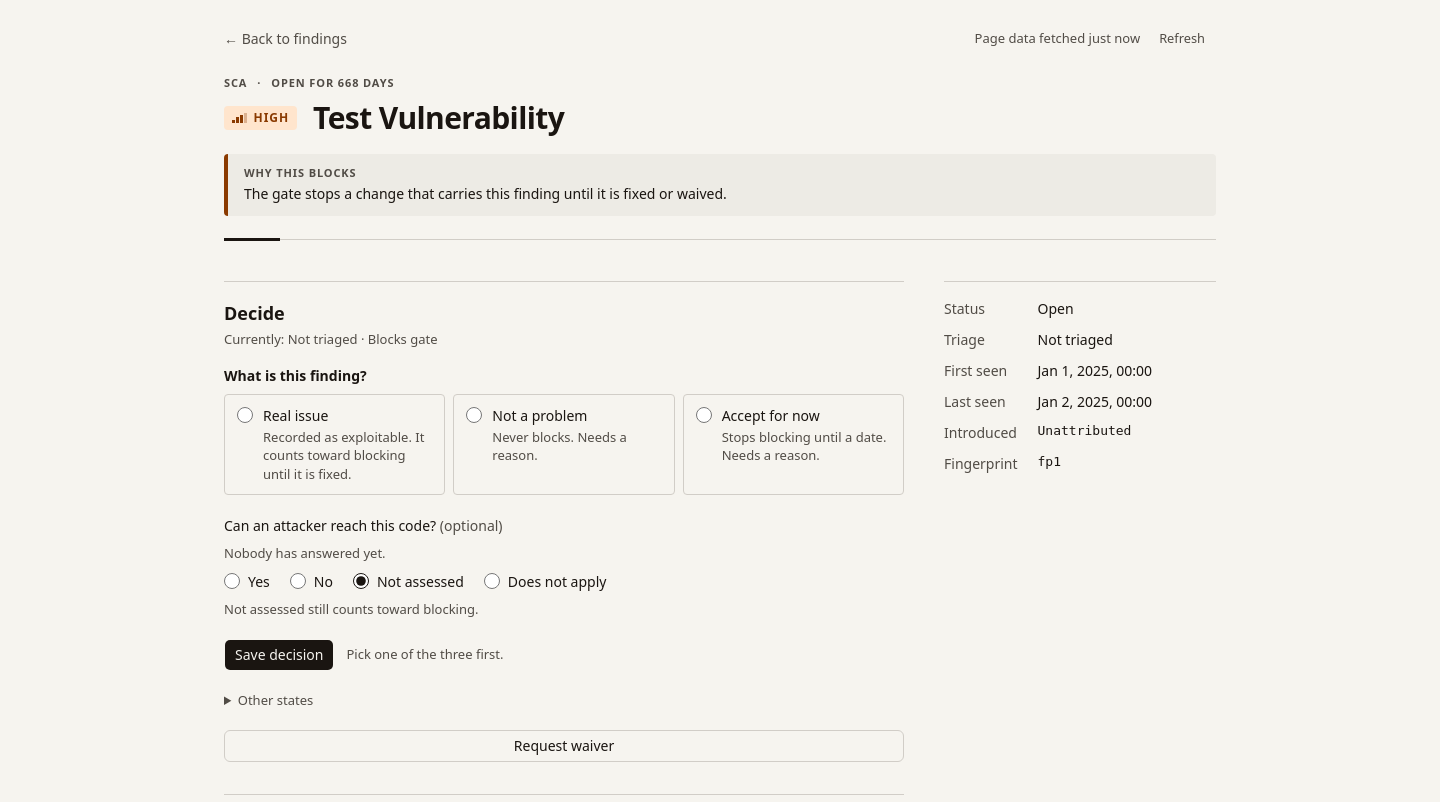
decide-first form when someone else triaged first › reloads, shows what changed and who did it, and re-applies on top of the new state
Expected: the heading "Test Vulnerability" is shown, 313,101 -> 564,134
Expected: the text "Nobody has answered yet." is shown, 224,544 -> 386,562
Click the radio button labelled "Real issue".
click(245, 415)  # box 237,407 -> 253,423
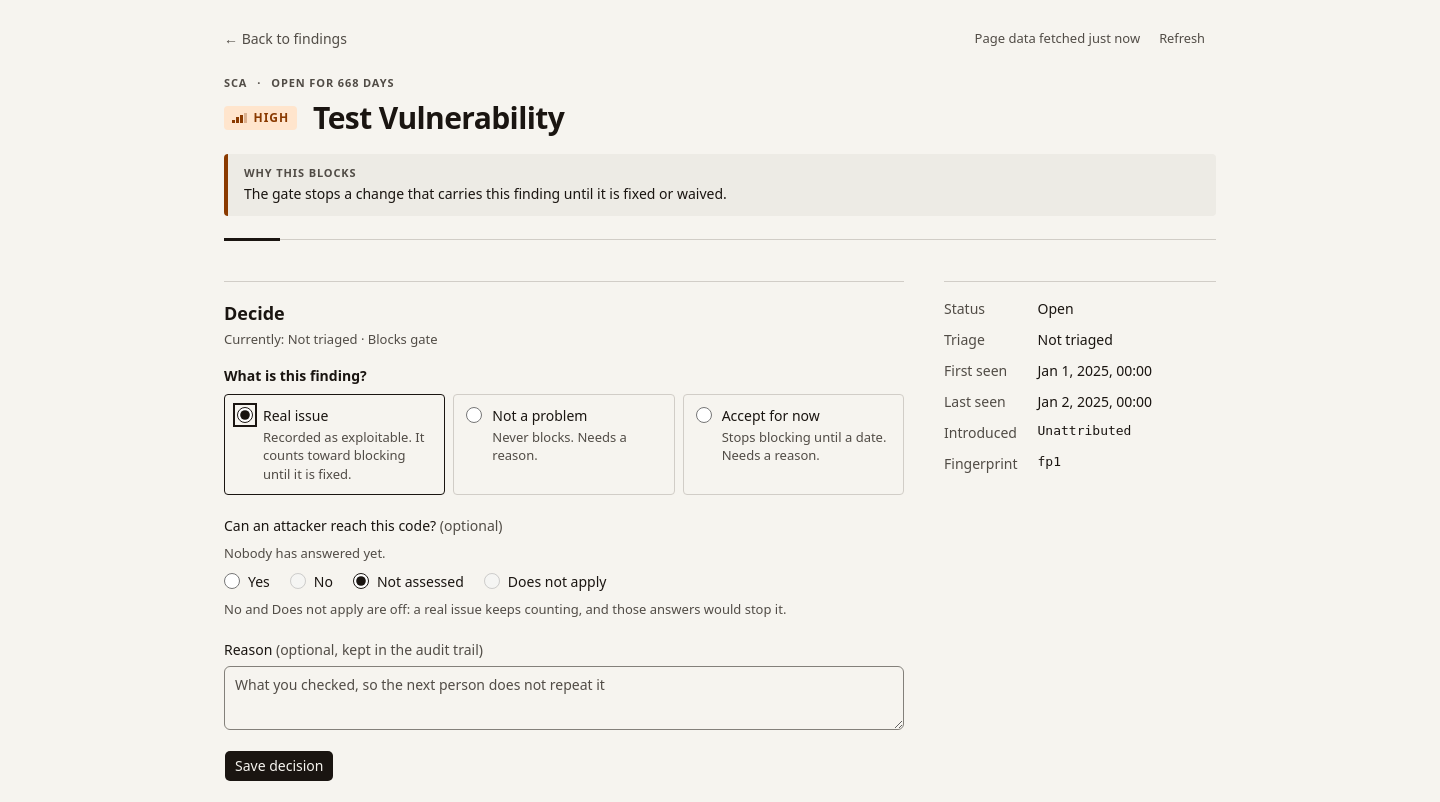
Click the button "Save decision".
click(279, 766)  # box 224,750 -> 334,782
(page scrolled)
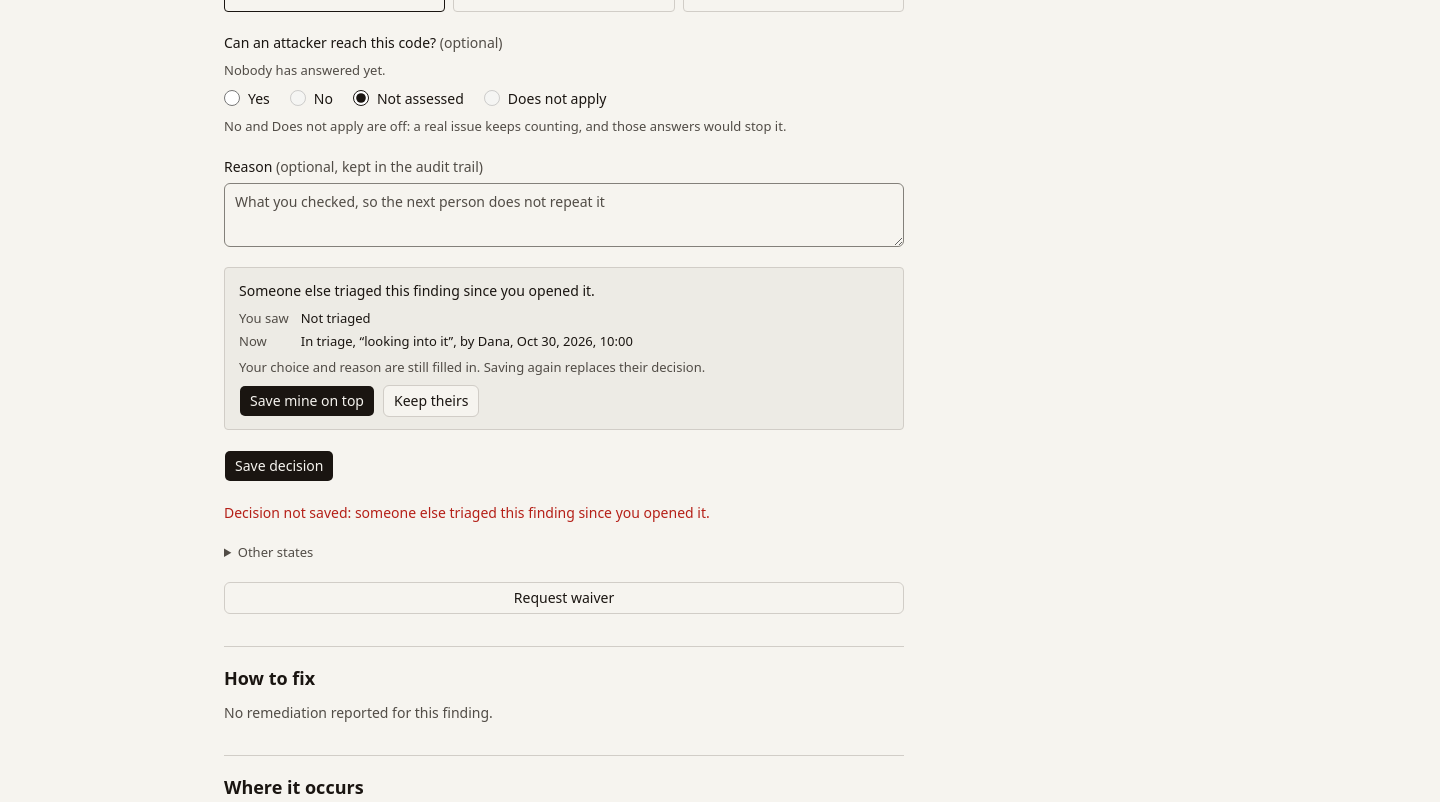
Expected: the text "Not triaged" is shown, 301,309 -> 371,327
Now the text "Someone else triaged this finding since you opened it." is shown, box 239,281 -> 595,300
Click the button "Save mine on top".
click(307, 401)  # box 239,385 -> 375,417
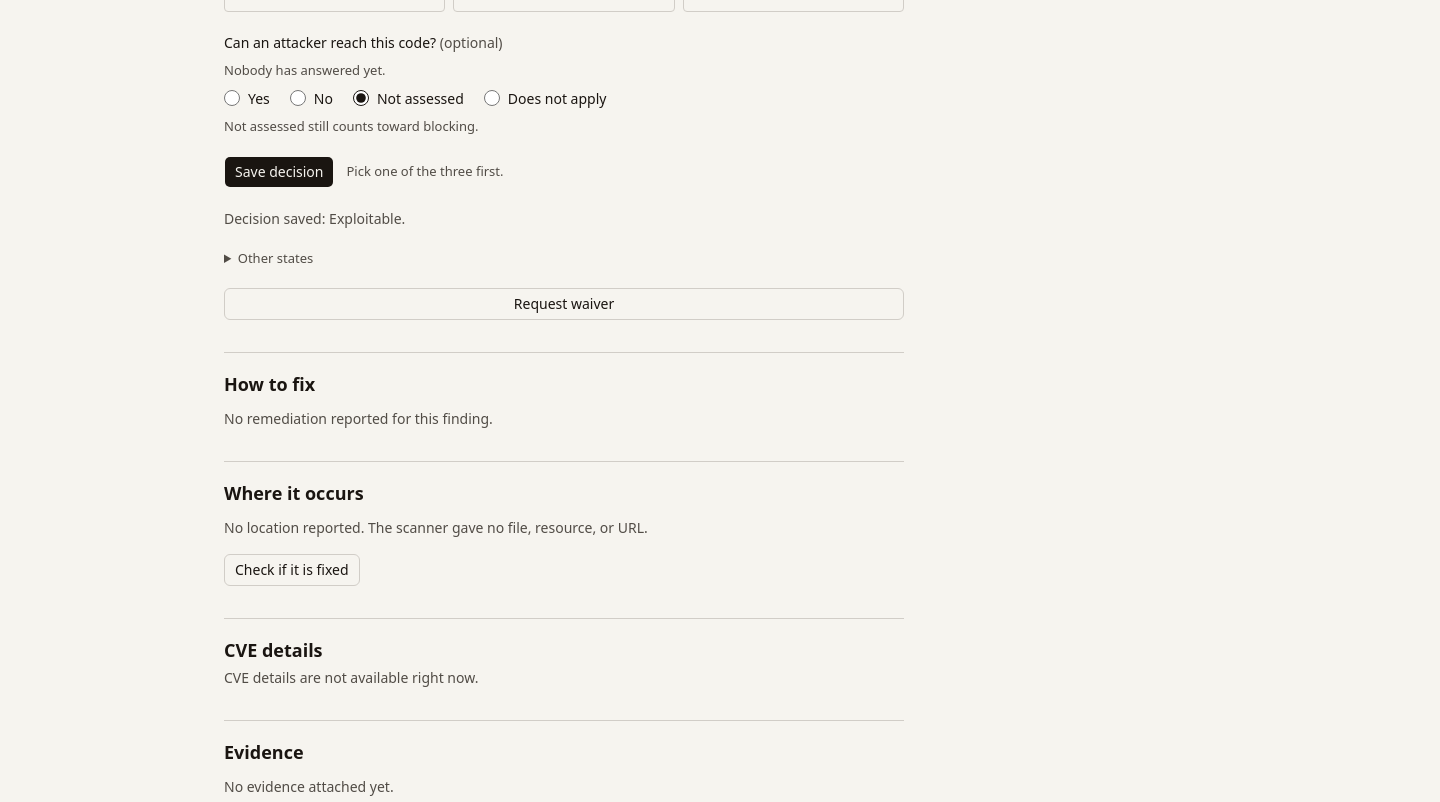
Now the text "Someone else triaged this finding since you opened it." is gone
